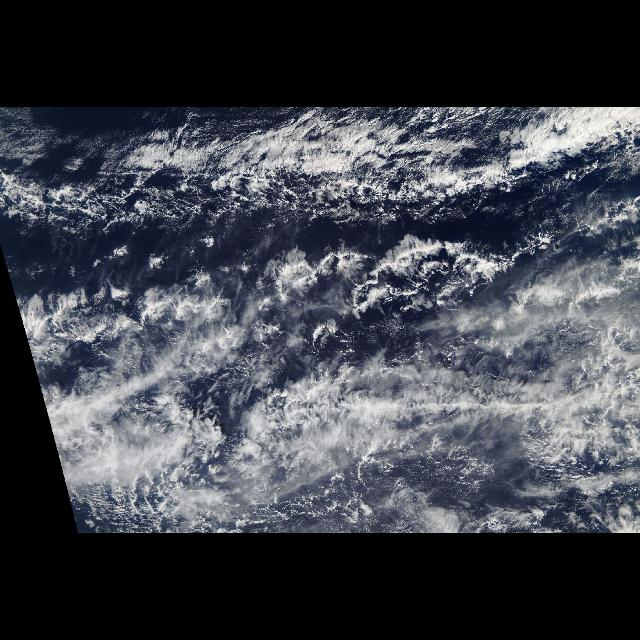Fish: (11, 114, 601, 218)
